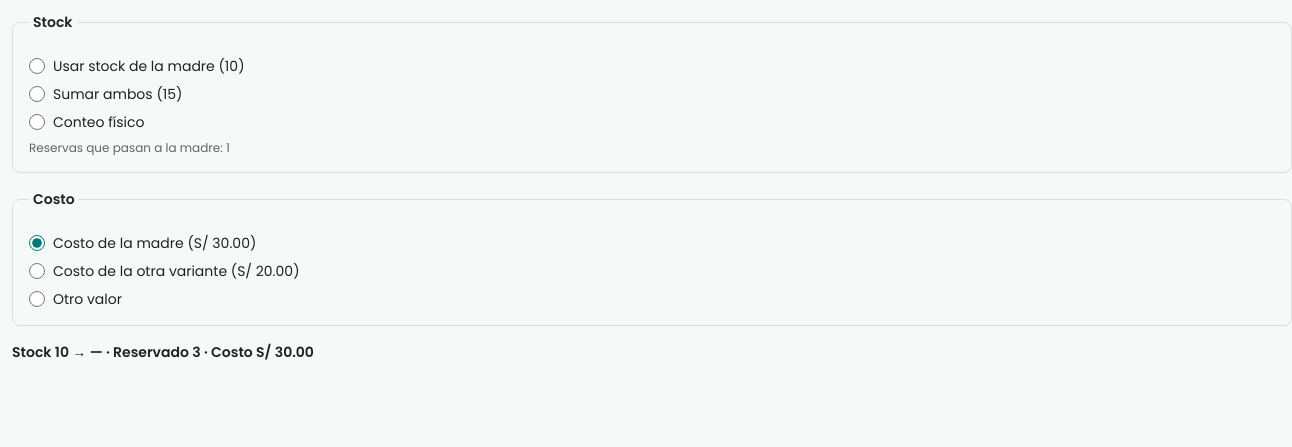
ReconciliationMergeStockCostStep › costo: la madre viene marcada; "Otro valor" muestra el campo
The image size is (1292, 447).
Check: the radio button labelled "Costo de la madre (S/ 30.00)" is checked, box [29, 235, 45, 251]
Click the radio button labelled "Otro valor". click: (37, 299)
box: [29, 291, 45, 307]
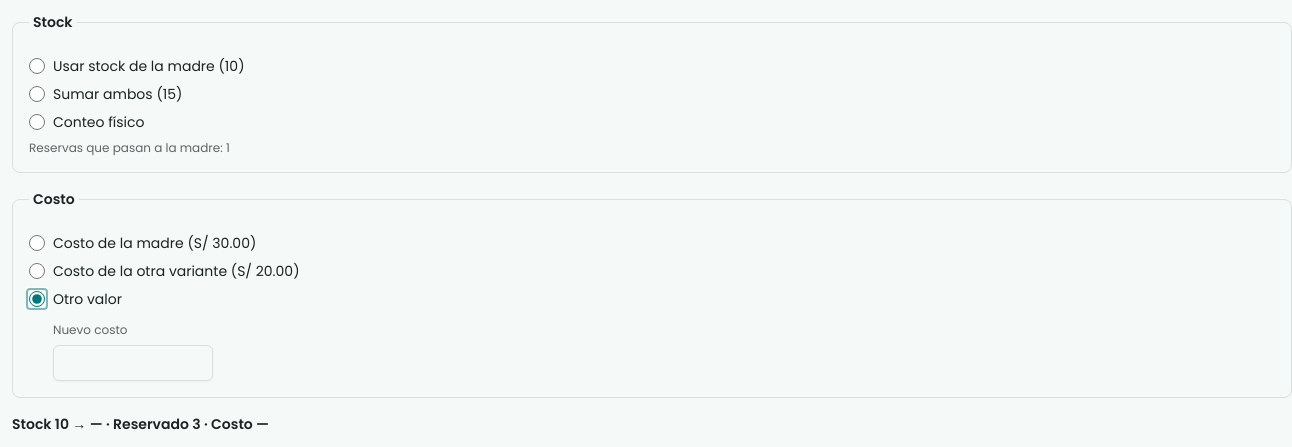
Check: the field labelled "Nuevo costo" is shown, box [53, 345, 213, 381]
